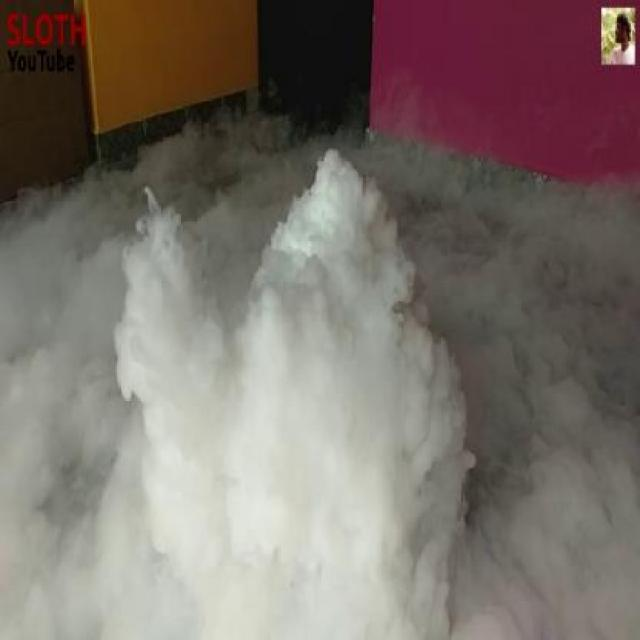smoke: (112, 175, 540, 620)
